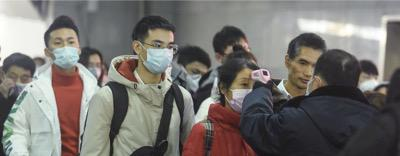with_mask: (139, 38, 176, 73), (226, 74, 257, 115), (46, 34, 79, 69), (2, 70, 31, 99), (179, 67, 209, 93), (305, 69, 326, 99), (356, 73, 379, 93), (85, 58, 101, 81)
without_mask: (289, 56, 317, 89)
